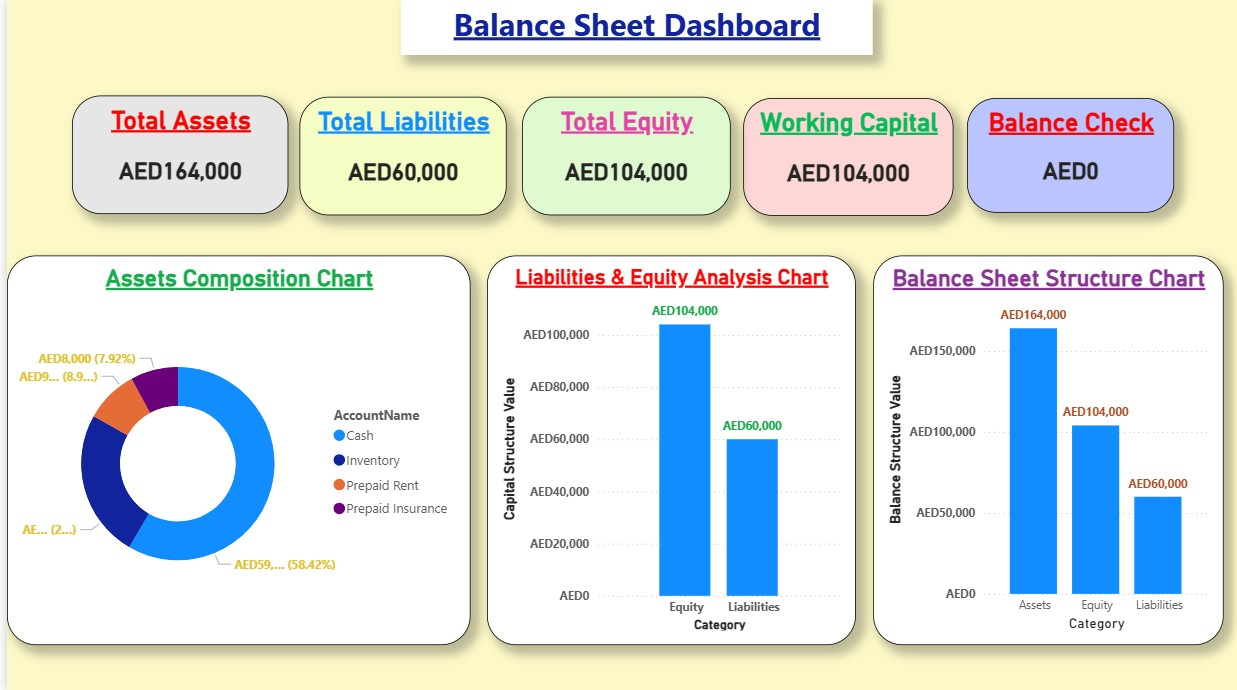

This screenshot's page, from the dashboard's own definition file:
{"tool":"powerbi","page":{"name":"Balance Sheet Dashboard","canvas":[1280,720],"ordinal":2},"visuals":[{"type":"card","title":"Working Capital","fields":{"Values":["Measures 1.Working Capital"]},"box":[764.7,104.3,218.2,122.1],"z":0},{"type":"textbox","box":[408.5,0,490.8,59.4],"z":1000},{"type":"card","title":"Total Assets","fields":{"Values":["Measures 1.Total Assets"]},"box":[67.6,101.5,225,123.5],"z":2000},{"type":"card","title":"Total Liabilities","fields":{"Values":["Measures 1.Total Liabilities"]},"box":[303.6,102.9,215.4,123.5],"z":3000},{"type":"card","title":"Total Equity","fields":{"Values":["Measures 1.Total Equity"]},"box":[535.5,102.9,216.8,123.5],"z":4000},{"type":"card","title":"Balance Check","fields":{"Values":["Measures 1.Balance Check"]},"box":[998,104.3,215.4,119.4],"z":5000},{"type":"donutChart","title":"Assets Composition Chart","fields":{"Category":["qry_Balance_Sheet.AccountName"],"Y":["Sum(qry_Balance_Sheet.FinalBalance)"]},"box":[0,267.6,481.6,404.8],"z":6000},{"type":"clusteredColumnChart","title":"Liabilities & Equity Analysis Chart","fields":{"Category":["Capital Structure.Category"],"Y":["Measures 1.Capital Structure Value"]},"box":[498.1,267.6,382.8,404.8],"z":7000},{"type":"clusteredColumnChart","title":"Balance Sheet Structure Chart","fields":{"Category":["Balance Structure.Category"],"Y":["Measures 1.Balance Structure Value"]},"box":[900.2,277.2,363.6,395.2],"z":8000}]}

Visuals, with their boxes in screenshot pixels (x1, y1, x2, y2), scaled from the page's 1280x720 canvas onto the 1237x690 screenshot:
"Working Capital" card: select_region(739, 100, 950, 217)
textbox: select_region(395, 0, 869, 57)
"Total Assets" card: select_region(65, 97, 283, 216)
"Total Liabilities" card: select_region(293, 99, 502, 217)
"Total Equity" card: select_region(518, 99, 727, 217)
"Balance Check" card: select_region(964, 100, 1173, 214)
"Assets Composition Chart" donutChart: select_region(0, 256, 465, 644)
"Liabilities & Equity Analysis Chart" clusteredColumnChart: select_region(481, 256, 851, 644)
"Balance Sheet Structure Chart" clusteredColumnChart: select_region(870, 266, 1221, 644)
